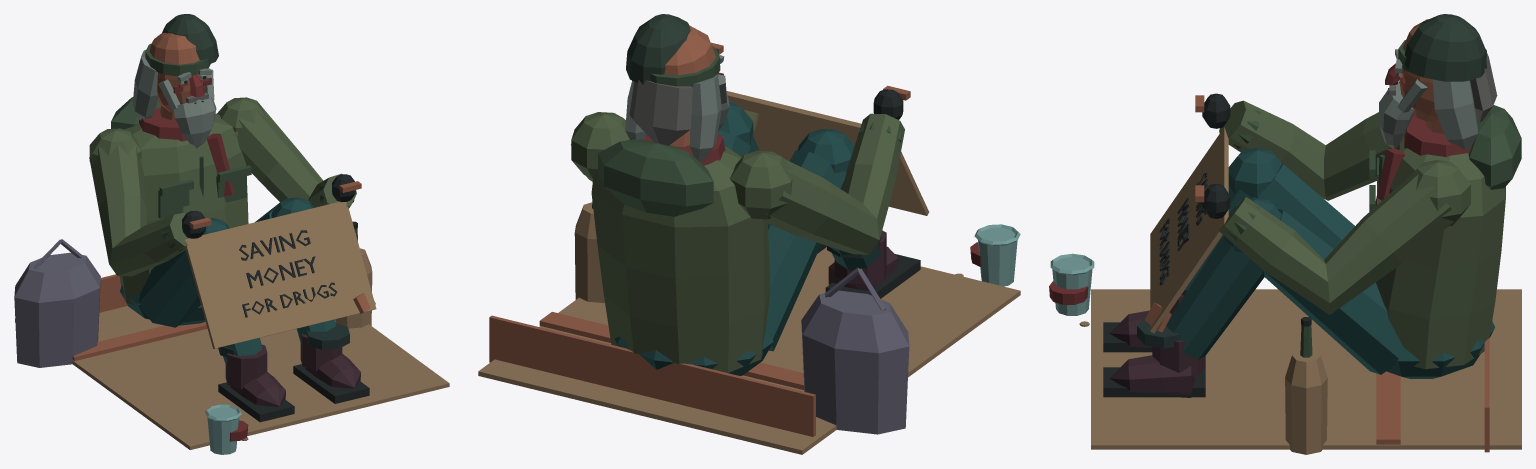
The model's file is boschetar.glb.
3 views of the same model, side by side, from view 1: azimuth 30°, elevation 25°; view 2: azimuth 150°, elevation 25°; view 3: azimuth 270°, elevation 25° (orthographic). The views are drawn at different scales.
Visible parts, largest first — view 1: Corp, BratDrept, Cap; view 2: Corp, BratDrept, Cap; view 3: Corp, Cap, BratDrept.
Part boxes in pixels (box(x1,y1,x2,y2)): Corp: box(14, 97, 449, 454); BratDrept: box(89, 128, 211, 276); Cap: box(133, 14, 218, 148); Corp: box(478, 42, 1020, 454); BratDrept: box(730, 85, 910, 254); Cap: box(625, 14, 729, 161); Corp: box(1049, 105, 1521, 454); Cap: box(1379, 14, 1497, 149); BratDrept: box(1195, 93, 1413, 200).
Bounding box in the file's own units: 1.08 × 0.9727 × 1.15.
